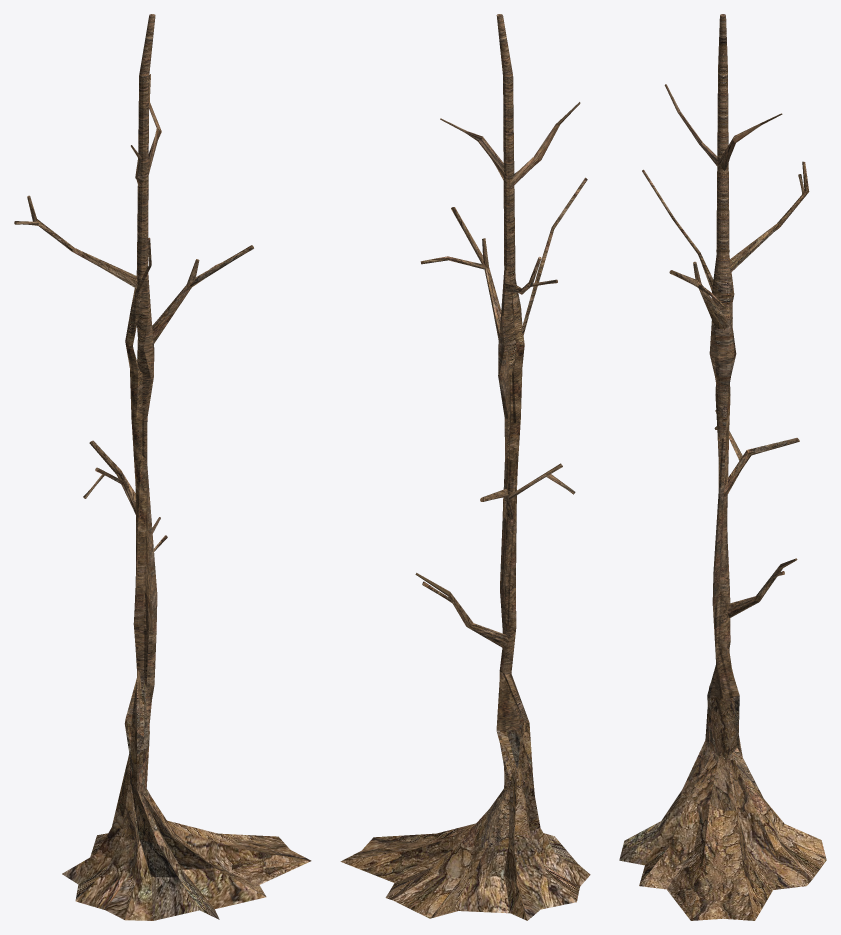
File: trunk2.glb
3 renders of one model, left to right at view 1: azimuth 30°, elevation 25°; view 2: azimuth 150°, elevation 25°; view 3: azimuth 270°, elevation 25°, orthographic. The views are drawn at different scales.
Visible parts, largest first — view 1: trunk2; view 2: trunk2; view 3: trunk2.
Part boxes in pixels (x1=…): trunk2: x1=14, y1=14, x2=311, y2=920; trunk2: x1=340, y1=14, x2=590, y2=920; trunk2: x1=619, y1=14, x2=826, y2=920.
Size of what is drawn, in the model's own units: 23.15 by 79.96 by 17.9.
1 material, 1 textured.
